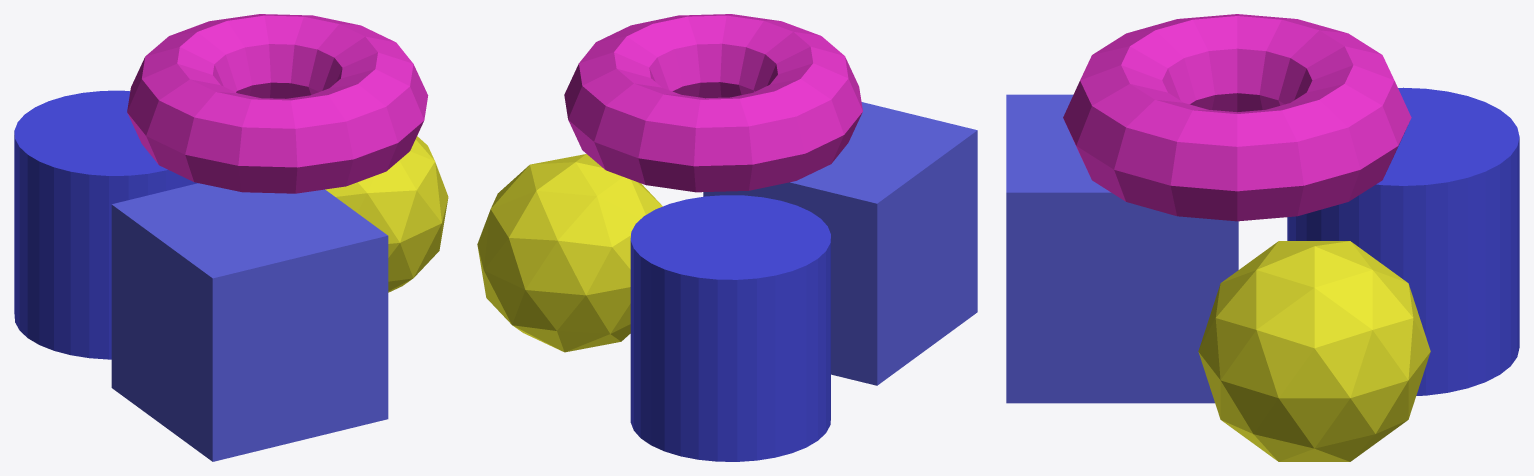
3 views of the same model, side by side, from view 1: azimuth 30°, elevation 25°; view 2: azimuth 150°, elevation 25°; view 3: azimuth 270°, elevation 25° (orthographic). The views are drawn at different scales.
Parts seen in each view (by area): view 1: Cube, Torus, Cylinder, Icosphere; view 2: Cylinder, Torus, Cube, Icosphere; view 3: Torus, Cube, Icosphere, Cylinder.
Boxes of the visible parts, x1,y1,x2,y2 form: Cube: (111,183,388,461); Torus: (127,14,428,193); Cylinder: (14,90,197,359); Icosphere: (325,136,448,292); Cylinder: (630,195,830,461); Torus: (564,14,862,192); Cube: (703,102,977,385); Icosphere: (477,154,662,352); Torus: (1063,14,1411,221); Cube: (1006,94,1238,403); Icosphere: (1198,241,1430,461); Cylinder: (1287,87,1519,395).
Size of the model in its own units: 0.8355 by 0.632 by 0.8834.
